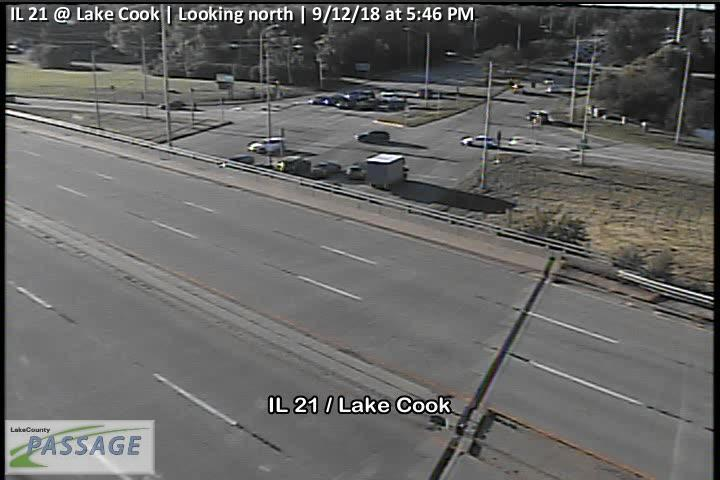SUV: (248, 137, 284, 154), (355, 130, 390, 143), (462, 135, 495, 147)
Truck: (367, 151, 409, 190)
